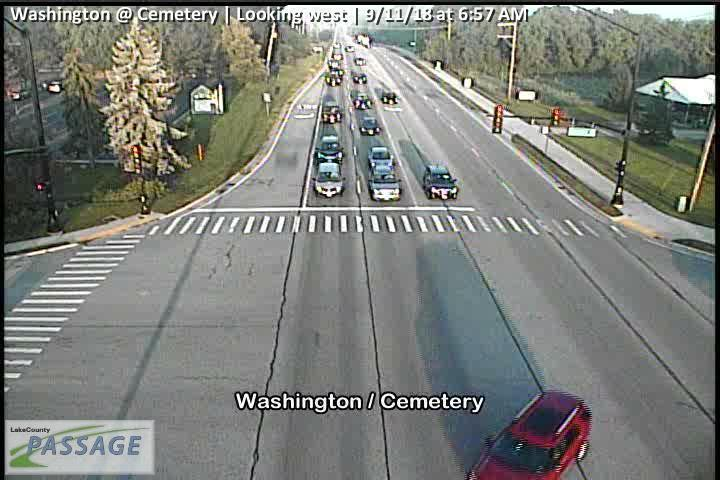SUV: (460, 389, 595, 480), (421, 162, 460, 202), (312, 161, 344, 197), (369, 168, 400, 202), (316, 136, 344, 163), (352, 92, 373, 111)
Sedan: (366, 144, 395, 167), (359, 115, 381, 137), (381, 88, 399, 105), (325, 73, 342, 87), (352, 56, 367, 66)
